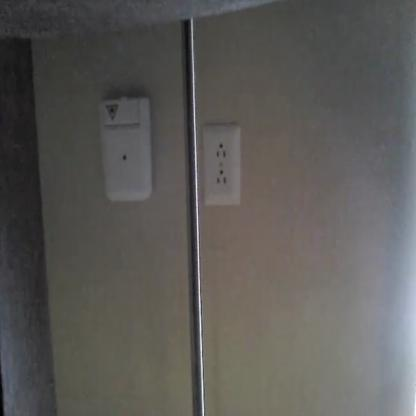OUTLET: (203, 125, 241, 207)
